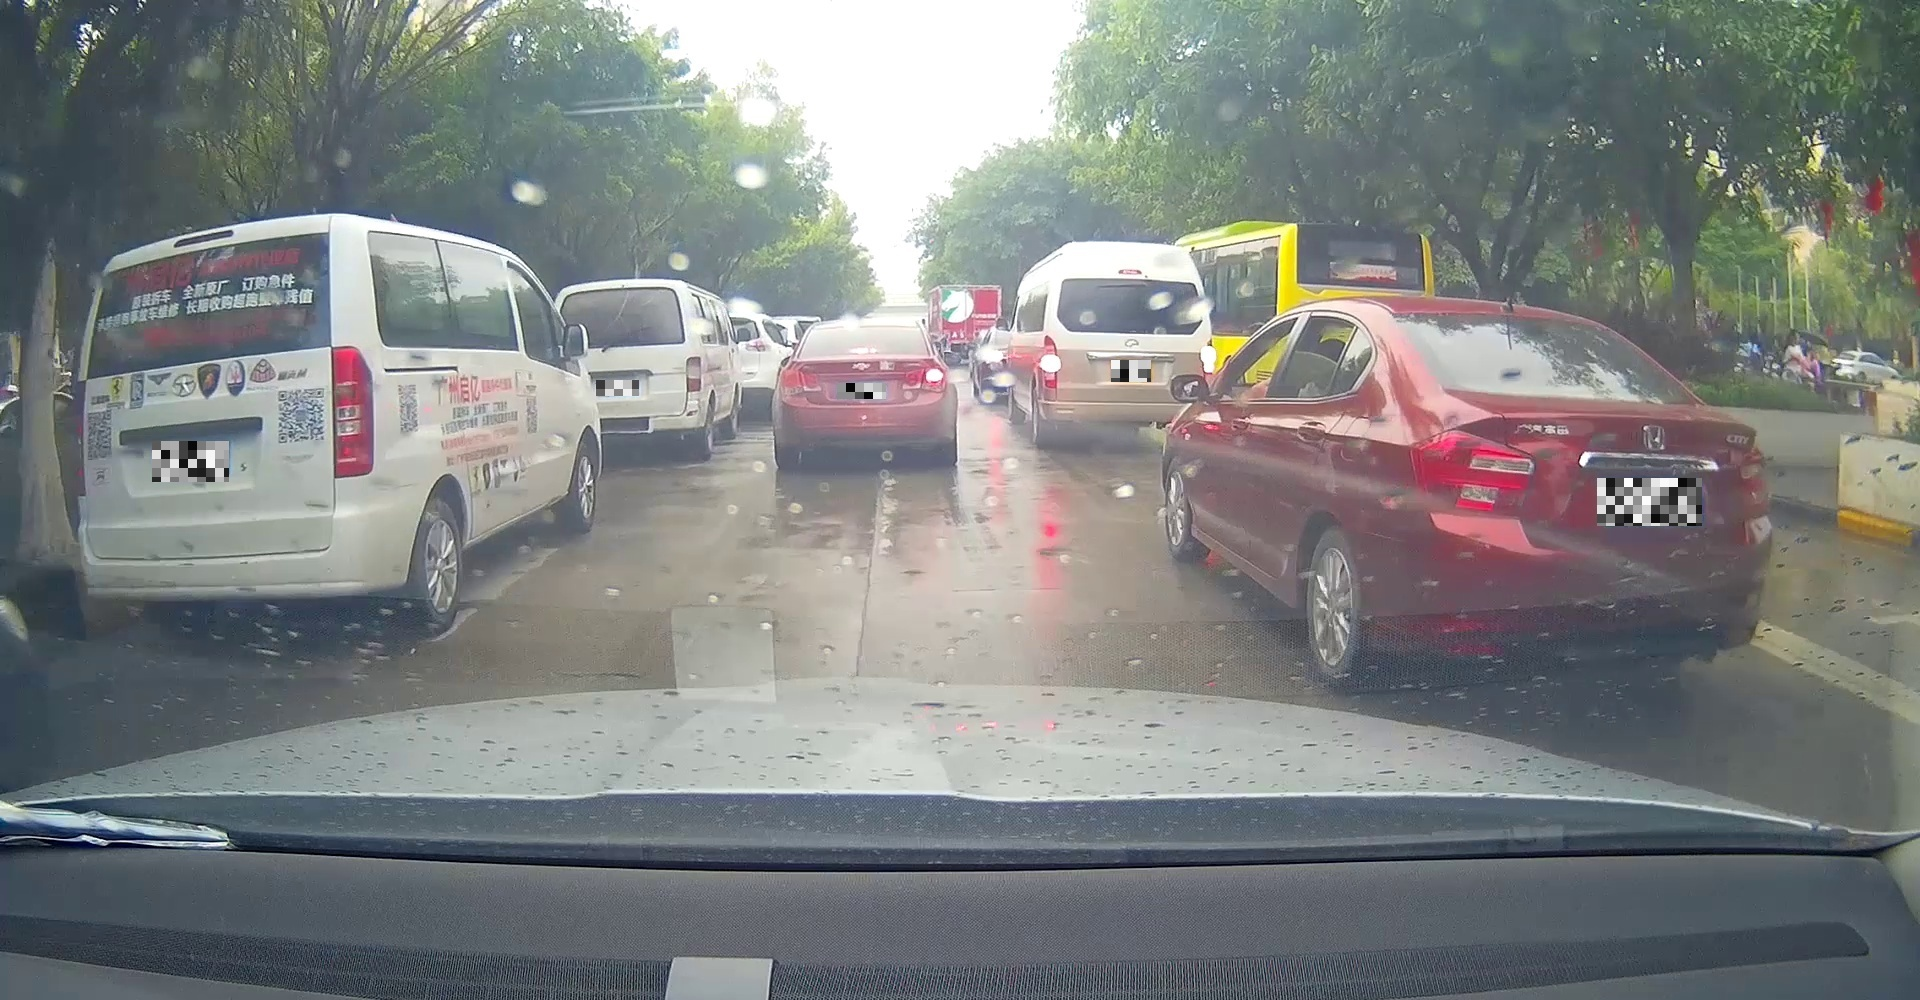L_light: (1408, 430, 1535, 513), (72, 381, 88, 497), (778, 368, 822, 395), (1043, 335, 1057, 390)
R_light: (331, 346, 375, 478), (1738, 447, 1768, 515), (902, 364, 947, 393), (1203, 339, 1214, 390)
T_light: (171, 228, 234, 247), (1481, 313, 1542, 325), (847, 346, 877, 357), (1117, 268, 1142, 275)
day-brake: (1036, 240, 1219, 445)
day-no: (1377, 296, 1771, 681), (72, 214, 381, 635)
day-right: (771, 319, 957, 472)
plate_1: (152, 442, 229, 482)
plate_2: (596, 379, 639, 396)
plate_3: (837, 383, 886, 398)
plate_4: (1111, 360, 1150, 382)
plate_5: (1597, 478, 1702, 525)
